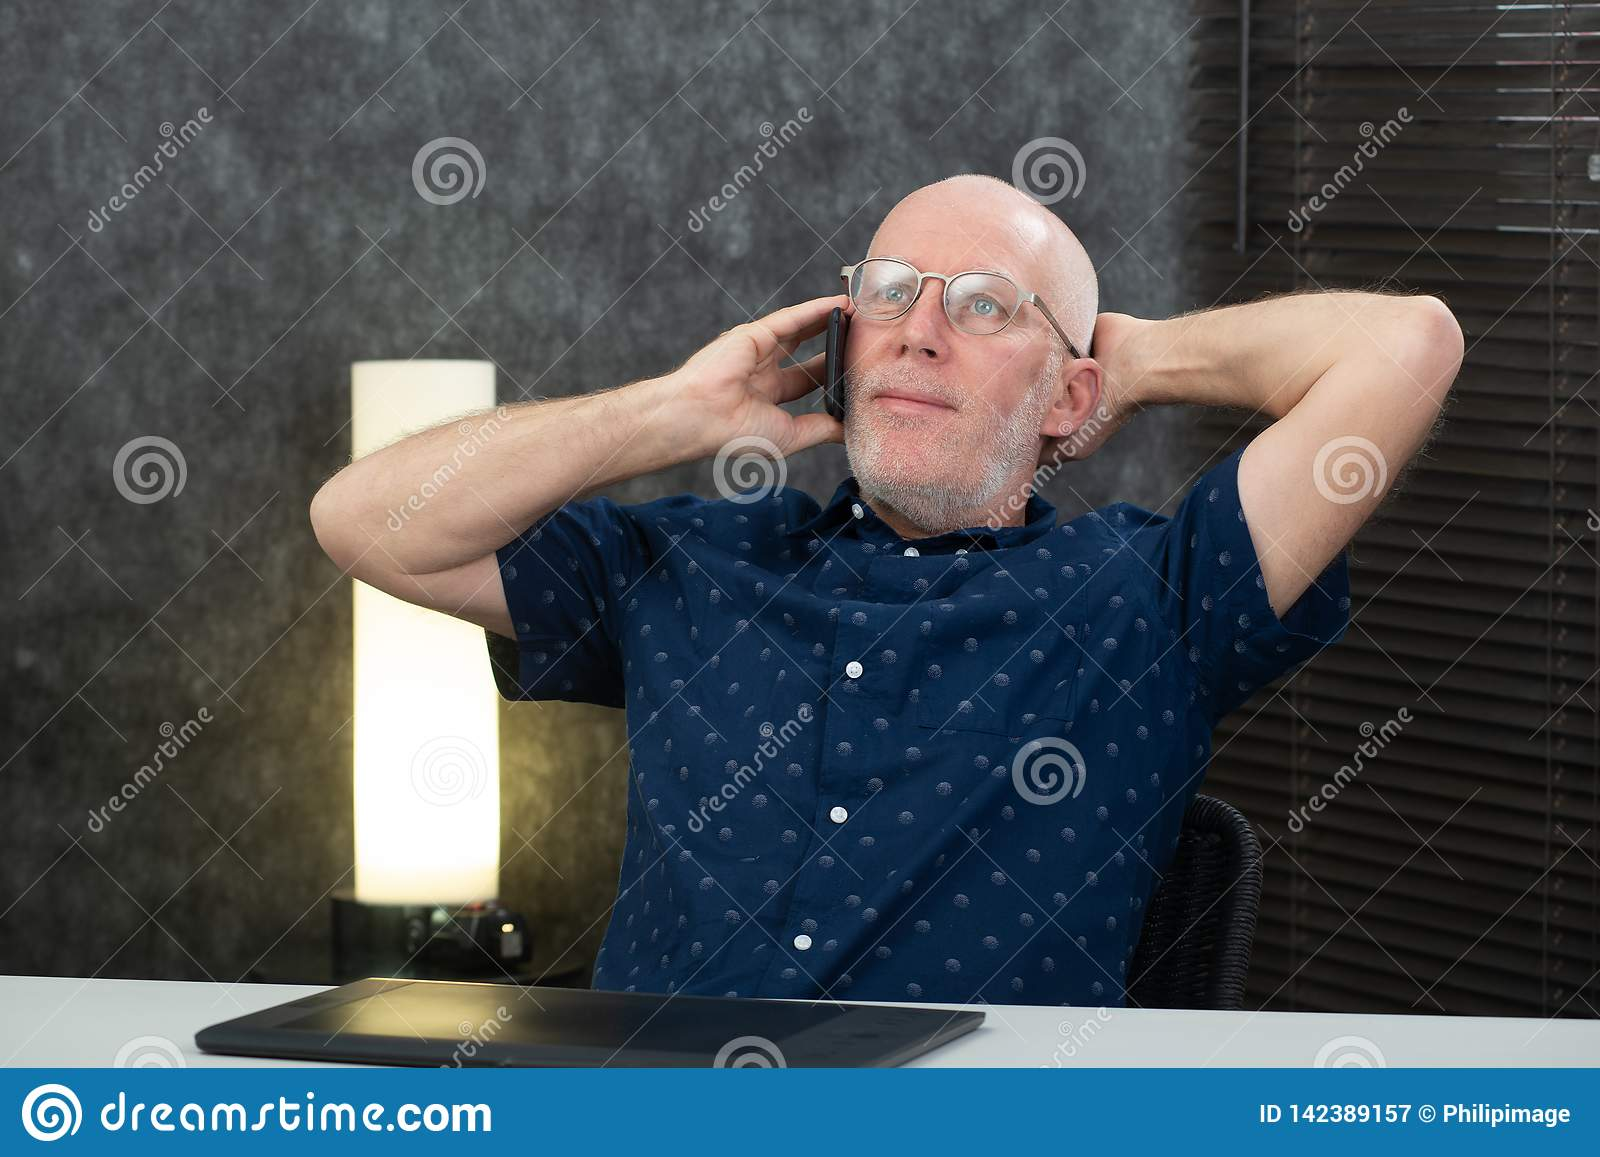phone: (821, 304, 851, 434)
talk: (684, 249, 1036, 498)
